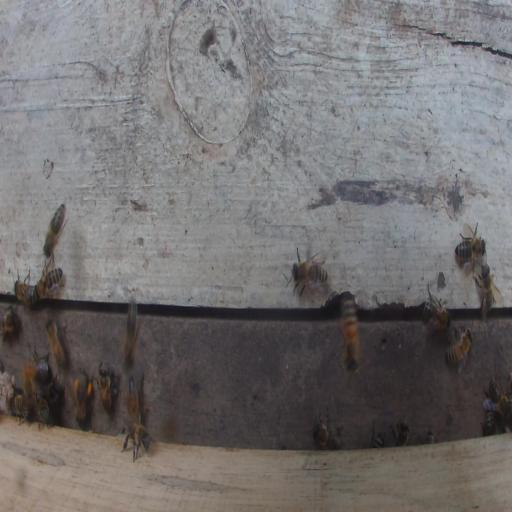bee: (341, 291, 360, 372), (311, 406, 343, 449), (291, 259, 330, 294), (43, 204, 67, 259), (121, 421, 153, 462), (445, 327, 474, 372), (422, 295, 452, 333), (123, 298, 139, 367), (34, 263, 63, 301), (45, 316, 66, 368), (11, 278, 39, 313), (478, 264, 496, 317), (488, 378, 510, 419), (75, 373, 92, 425), (454, 237, 486, 261), (126, 374, 140, 423), (11, 393, 32, 425), (481, 410, 504, 436), (98, 367, 111, 413), (1, 305, 19, 336), (22, 354, 34, 400), (391, 419, 410, 447), (36, 395, 49, 428), (46, 377, 60, 405), (35, 357, 49, 381), (371, 432, 385, 448)
